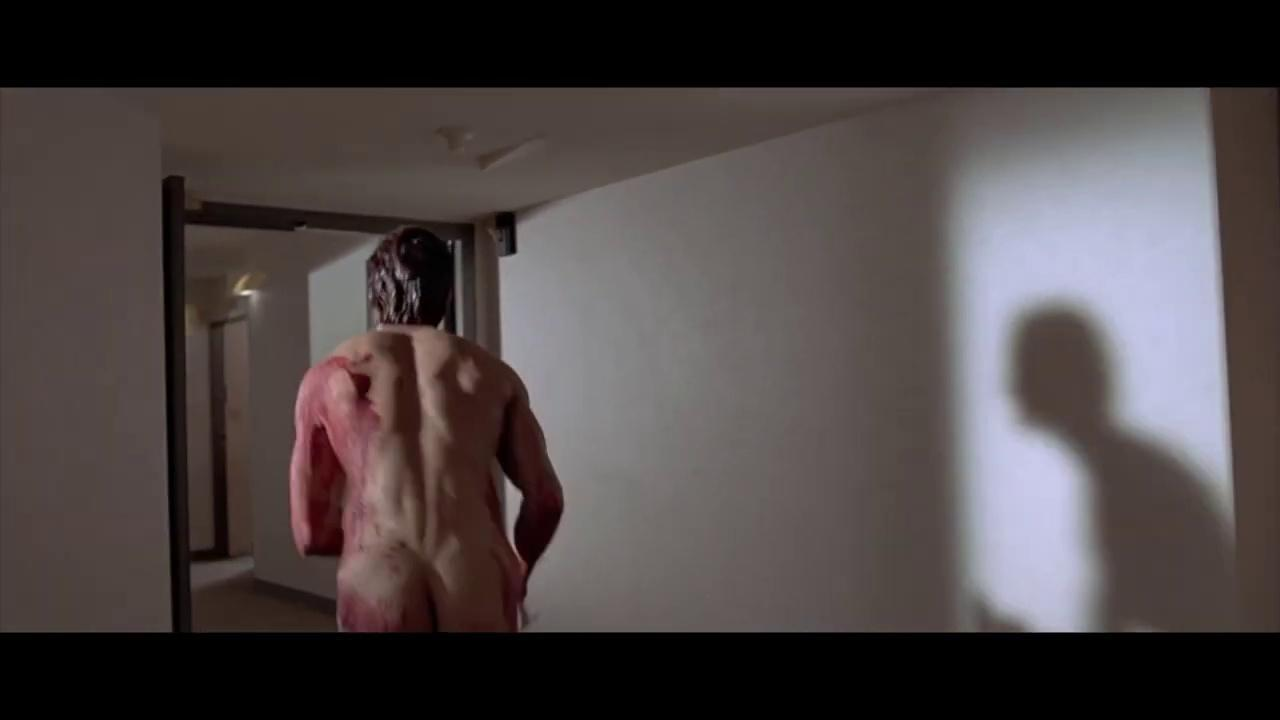Fire: (289, 350, 381, 554), (336, 546, 437, 632)
